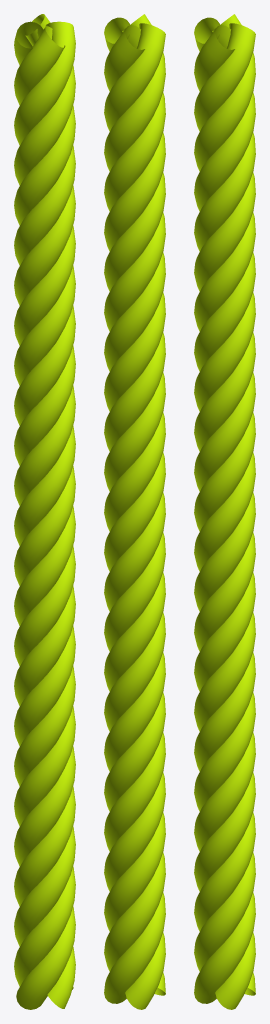
The model's file is bright_string.fbx.
The picture shows the model from 3 angles, left to right: view 1: azimuth 90°, elevation 25°; view 2: azimuth 150°, elevation 25°; view 3: azimuth 330°, elevation 25°; orthographic projection.
Parts seen in each view (by area): view 1: Circle.003; view 2: Circle.003; view 3: Circle.003.
Part boxes in pixels (x1,y1,x2,y2): Circle.003: (14, 14, 75, 1009); Circle.003: (104, 14, 165, 1009); Circle.003: (194, 14, 255, 1009).
Size of the model in its own units: 10.76 by 188 by 10.76.
